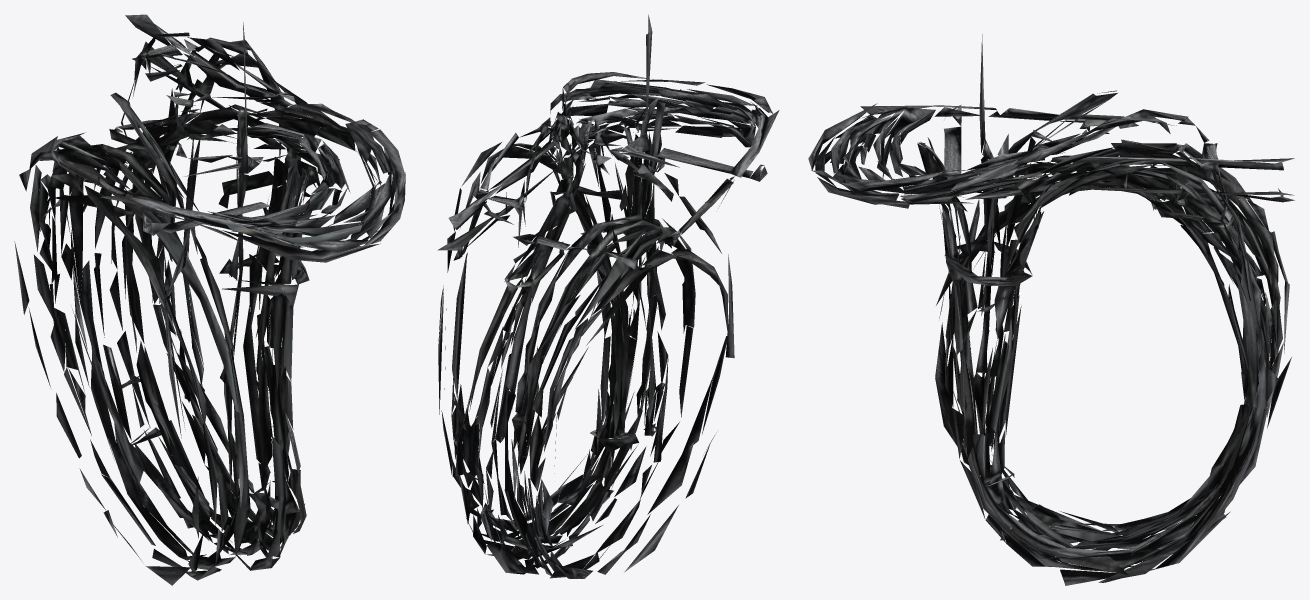
File: hanging_wires.glb
3 renders of one model, left to right at view 1: azimuth 30°, elevation 25°; view 2: azimuth 150°, elevation 25°; view 3: azimuth 270°, elevation 25°, orthographic. The views are drawn at different scales.
Parts seen in each view (by area): view 1: tripo_node_8dc068c8-c40e-474c-a9ae-0f94ce32bde6; view 2: tripo_node_8dc068c8-c40e-474c-a9ae-0f94ce32bde6; view 3: tripo_node_8dc068c8-c40e-474c-a9ae-0f94ce32bde6.
Boxes of the visible parts, left/top/right/bottom form: tripo_node_8dc068c8-c40e-474c-a9ae-0f94ce32bde6: left=14, top=14, right=405, bottom=585; tripo_node_8dc068c8-c40e-474c-a9ae-0f94ce32bde6: left=437, top=14, right=779, bottom=578; tripo_node_8dc068c8-c40e-474c-a9ae-0f94ce32bde6: left=808, top=34, right=1294, bottom=585.
Size of the model in its own units: 0.4856 by 1.19 by 0.9597.
Materials: 1 (1 with a texture image).
